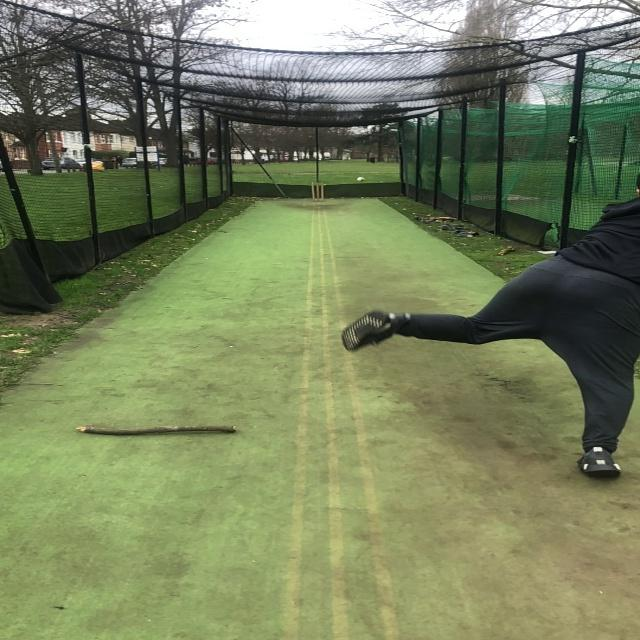ball: (356, 176, 365, 182)
